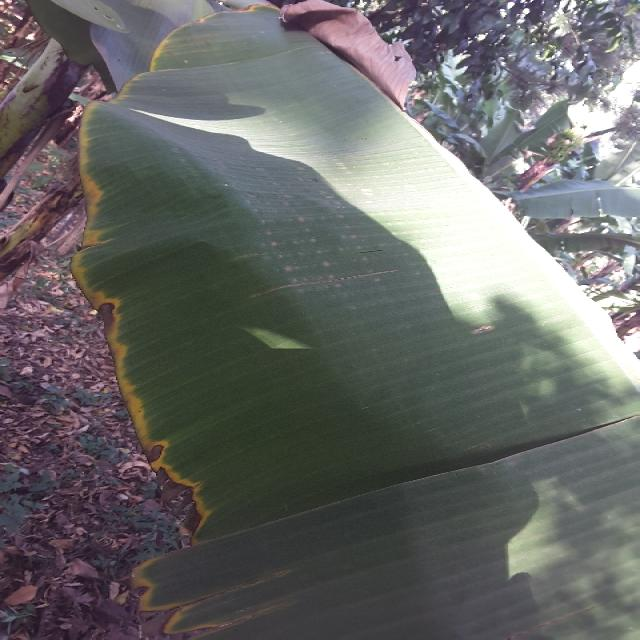Cordana: (0, 0, 313, 639)
